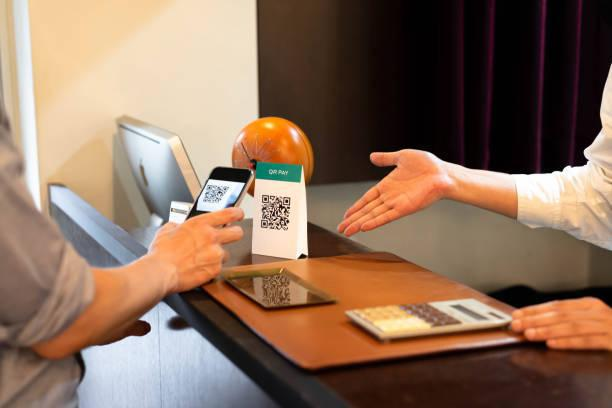Finder pattern: (280, 194, 293, 207), (259, 192, 271, 205), (259, 218, 271, 230), (205, 183, 213, 192), (221, 185, 229, 192)
